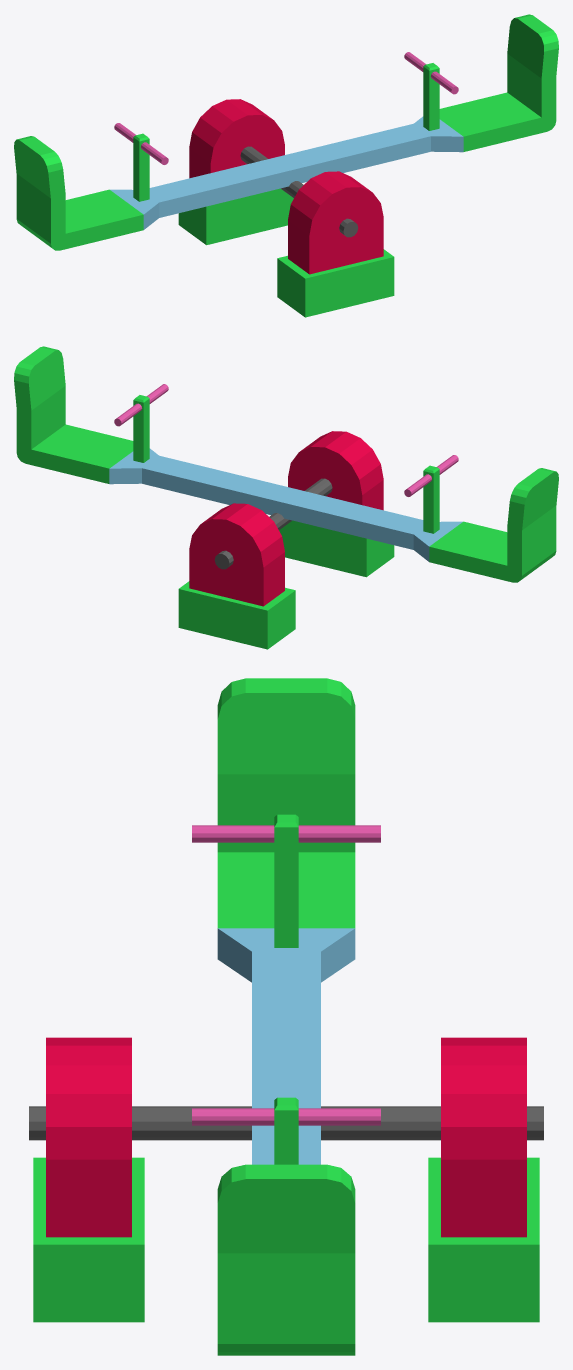
File: Seesaw.fbx
3 views of the same model, one above another, from view 1: azimuth 30°, elevation 25°; view 2: azimuth 150°, elevation 25°; view 3: azimuth 270°, elevation 25° (orthographic). The views are drawn at different scales.
Visible parts, largest first — view 1: Seesaw, Seesaw Base; view 2: Seesaw, Seesaw Base; view 3: Seesaw, Seesaw Base.
Boxes of the visible parts, box(x1,y1,x2,y2) form: Seesaw: box(14, 14, 558, 250); Seesaw Base: box(178, 99, 394, 317); Seesaw: box(14, 346, 558, 582); Seesaw Base: box(178, 431, 394, 649); Seesaw: box(192, 678, 380, 1355); Seesaw Base: box(29, 1037, 543, 1322).
Size of the model in its own units: 1380 by 450 by 600.
